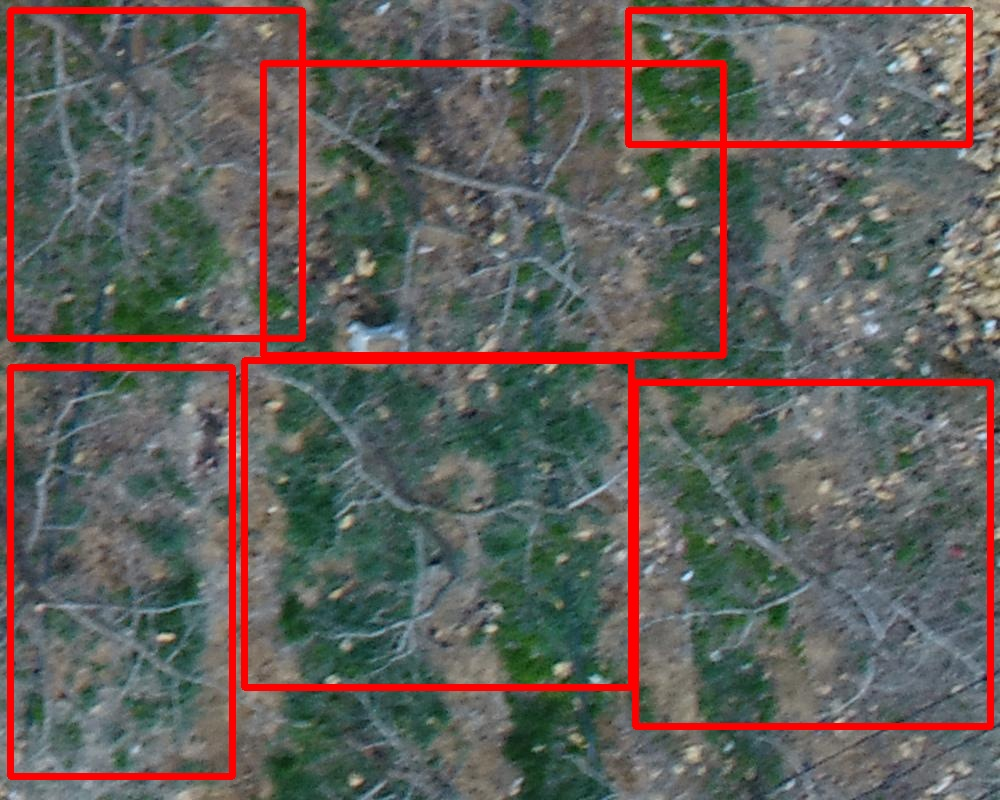apple: (263, 63, 723, 355), (244, 360, 631, 687), (635, 382, 990, 726), (10, 10, 302, 338), (10, 367, 232, 776), (628, 10, 969, 144)
